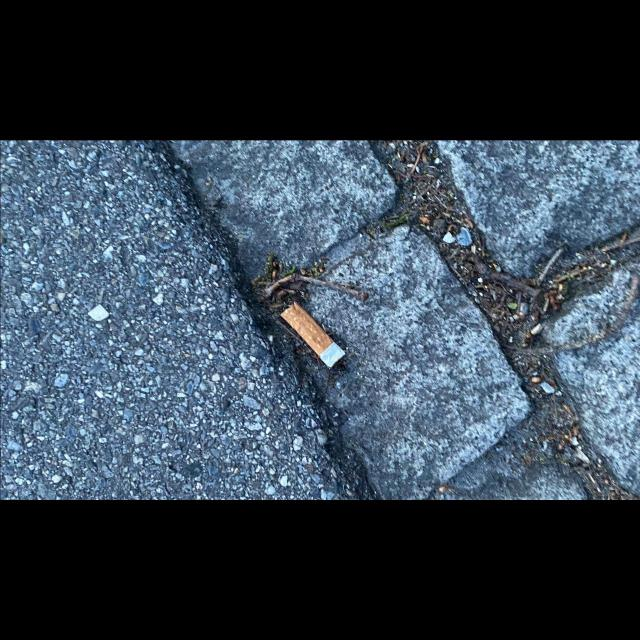cigarette: (280, 301, 347, 368)
